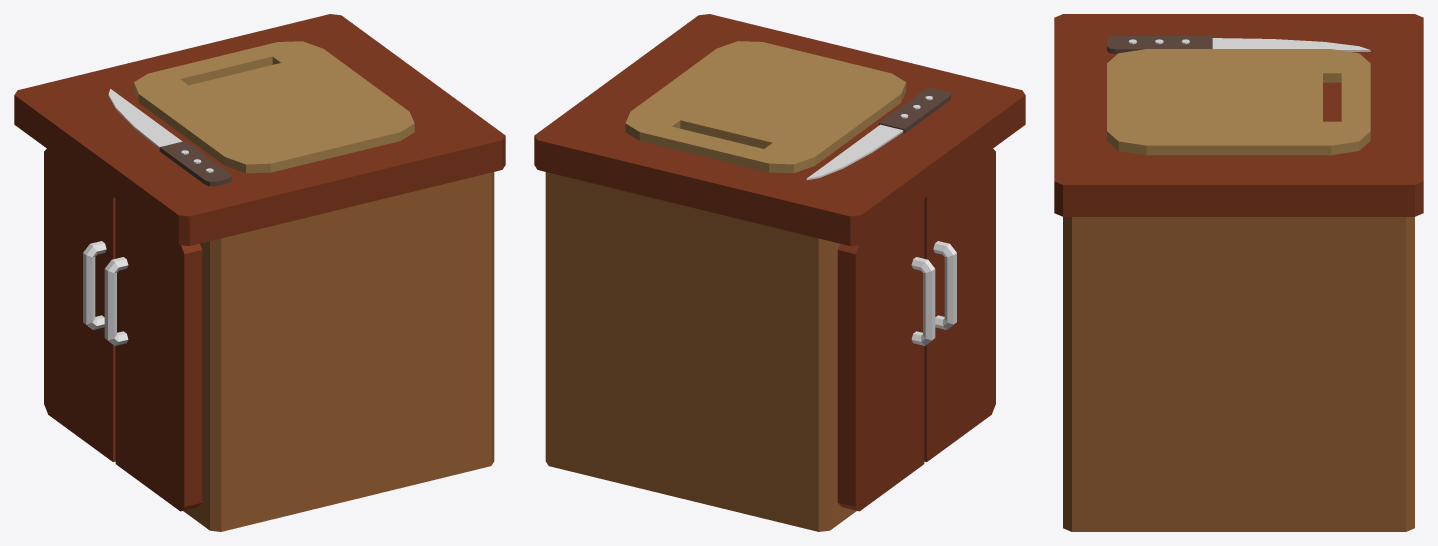
File: Cutting_Counter.fbx
3 renders of one model, left to right at view 1: azimuth 30°, elevation 25°; view 2: azimuth 150°, elevation 25°; view 3: azimuth 270°, elevation 25°, orthographic. The views are drawn at different scales.
Parts seen in each view (by area): view 1: Counter_Base, Counter_Top, Counter_Doors, Chopping_Board, Knife, Counter_Handles; view 2: Counter_Base, Counter_Top, Counter_Doors, Chopping_Board, Knife, Counter_Handles; view 3: Counter_Base, Counter_Top, Chopping_Board, Knife.
Boxes of the visible parts, x1,y1,x2,y2 form: Counter_Base: [183, 172, 494, 531]; Counter_Top: [14, 14, 505, 245]; Counter_Doors: [44, 149, 202, 511]; Chopping_Board: [134, 41, 414, 173]; Knife: [108, 89, 231, 186]; Counter_Handles: [83, 241, 128, 345]; Counter_Base: [545, 172, 856, 531]; Counter_Top: [534, 14, 1025, 245]; Counter_Doors: [837, 149, 995, 511]; Chopping_Board: [625, 41, 906, 173]; Knife: [806, 88, 950, 180]; Counter_Handles: [911, 241, 956, 345]; Counter_Base: [1063, 217, 1414, 531]; Counter_Top: [1054, 14, 1423, 216]; Chopping_Board: [1107, 49, 1370, 155]; Knife: [1107, 36, 1370, 53].
Size of the model in its own units: 1.15 by 1.13 by 1.05.
